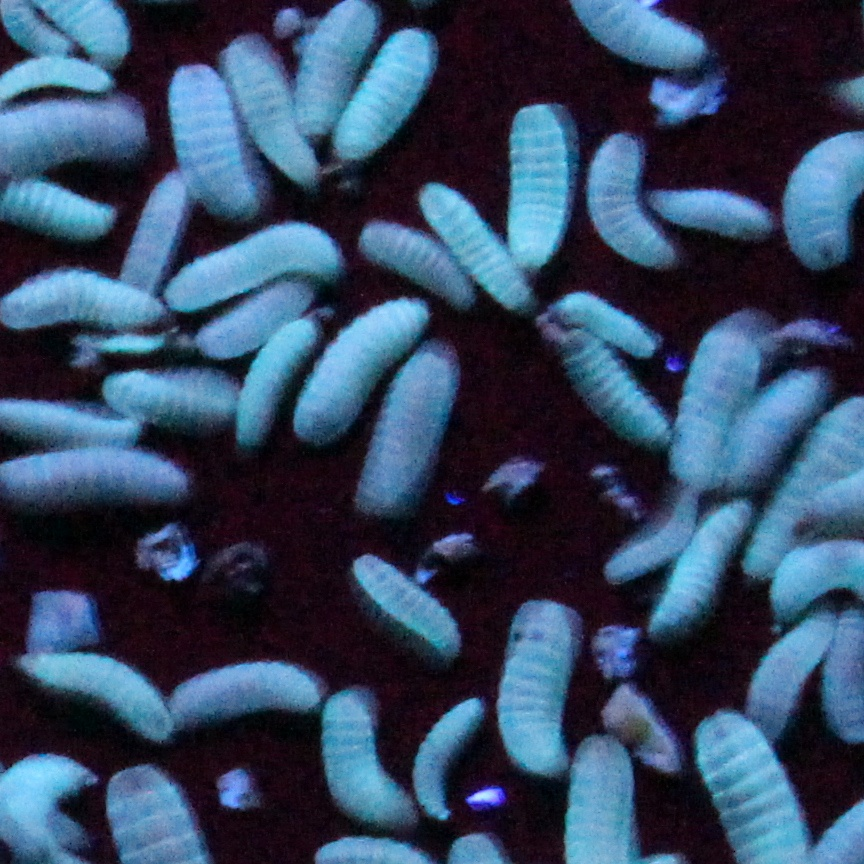larve: (290, 296, 438, 448), (150, 221, 353, 321), (360, 358, 470, 523), (143, 56, 258, 213), (328, 23, 445, 163), (303, 676, 410, 826), (15, 648, 178, 746), (213, 31, 318, 181), (423, 186, 535, 311), (510, 603, 588, 781), (580, 128, 670, 281), (675, 321, 758, 486), (740, 606, 838, 733), (293, 3, 380, 143), (568, 336, 675, 446), (663, 501, 745, 643), (505, 108, 568, 283), (100, 353, 250, 426), (160, 656, 325, 718), (235, 308, 303, 446), (363, 561, 463, 651), (195, 283, 325, 351), (410, 688, 475, 821), (120, 178, 200, 281), (360, 231, 470, 303), (558, 291, 663, 358), (615, 503, 695, 588), (650, 198, 790, 238)
